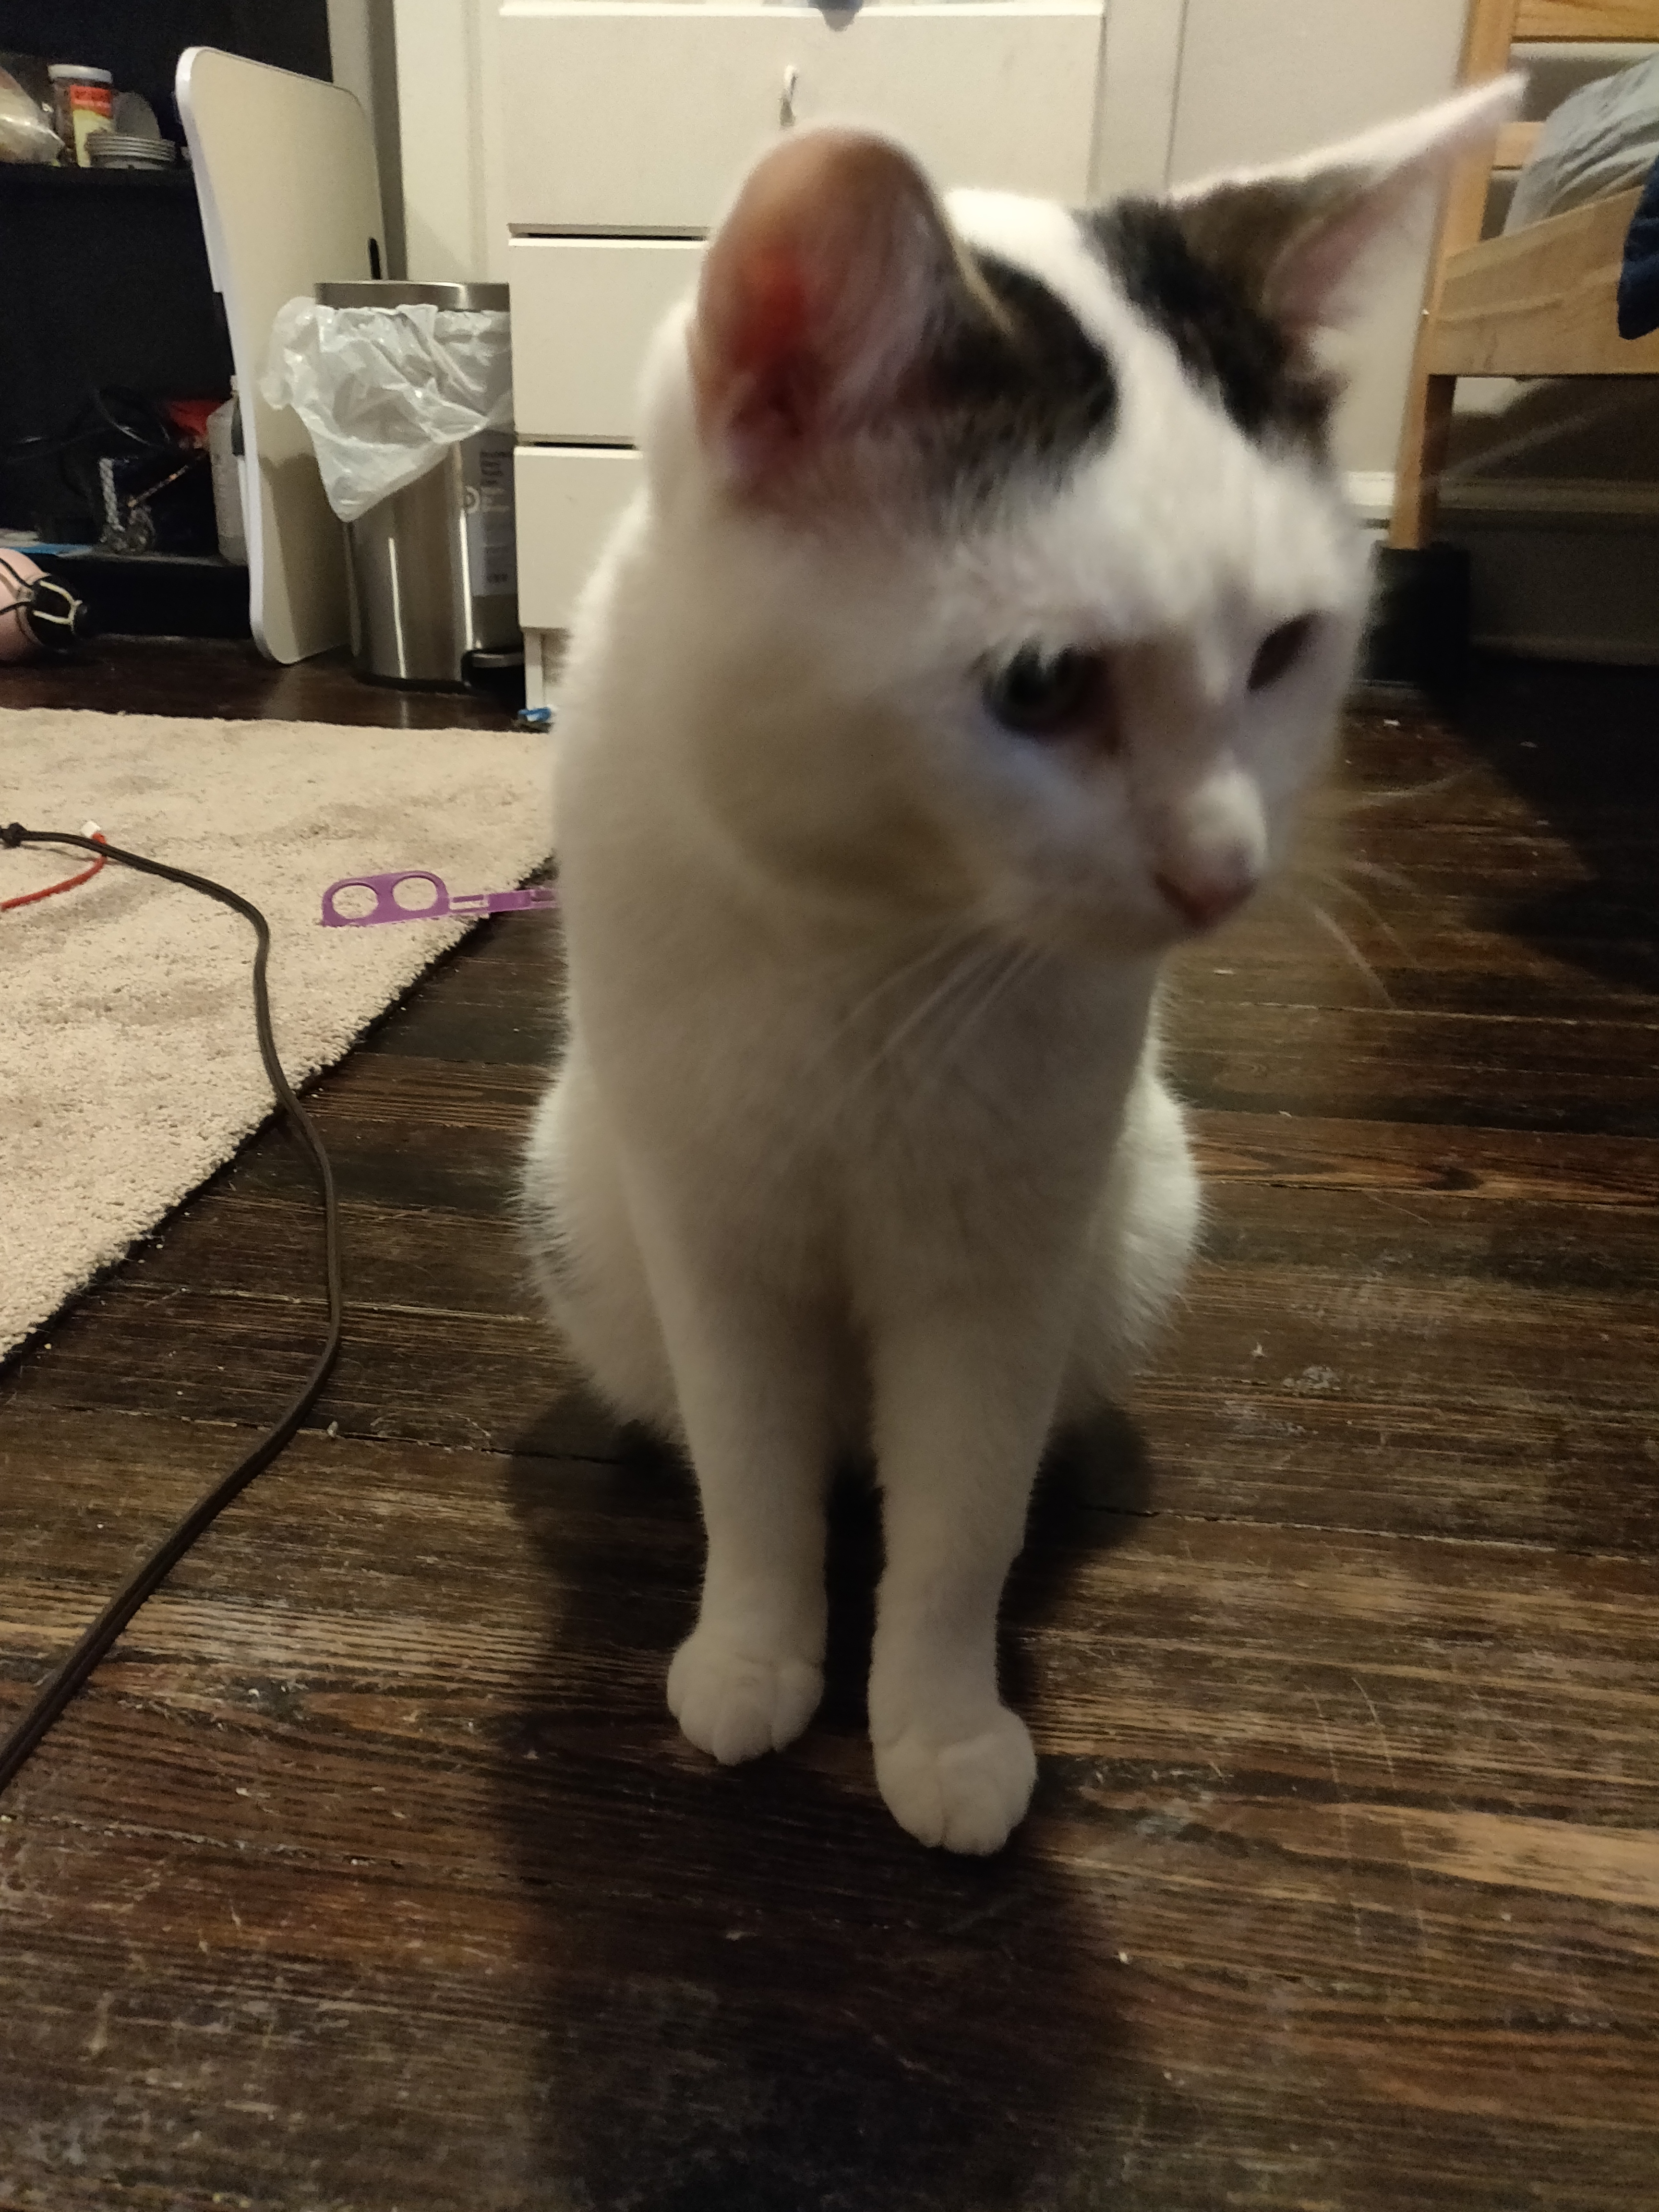cat: (505, 71, 1539, 1869)
